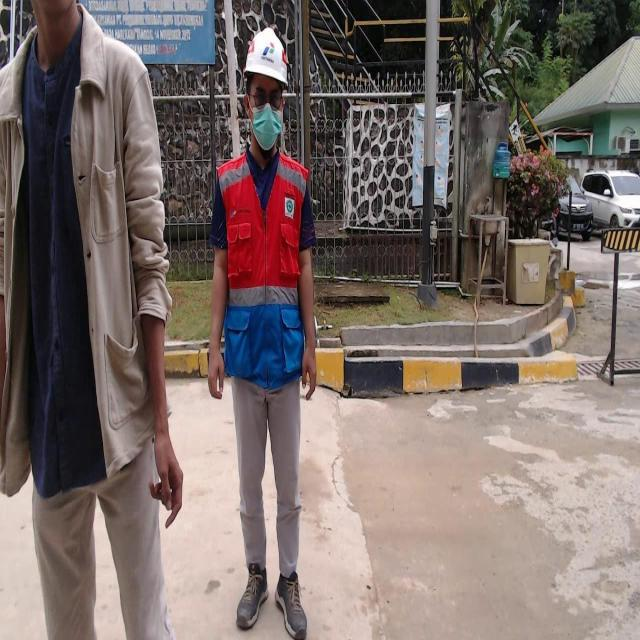helmet: (238, 26, 292, 90)
